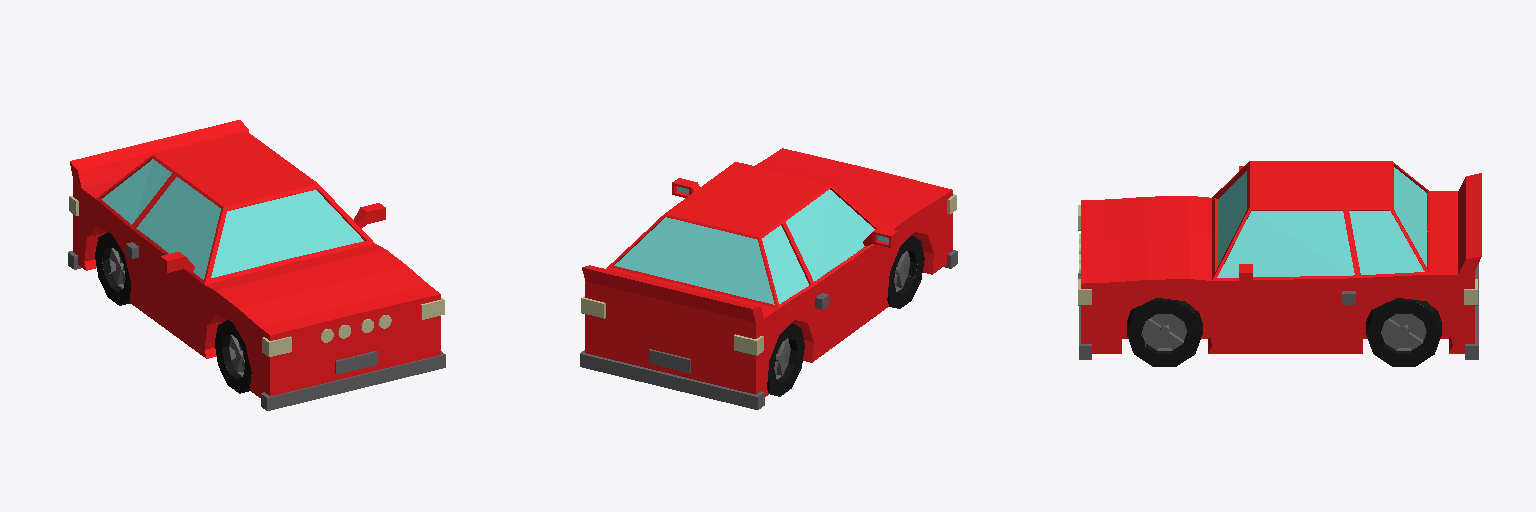
The picture shows the model from 3 angles: view 1: azimuth 30°, elevation 25°; view 2: azimuth 150°, elevation 25°; view 3: azimuth 270°, elevation 25°; orthographic projection.
Size of the model in its own units: 2.68 by 1.67 by 4.28.
Materials: 1 (1 with a texture image).